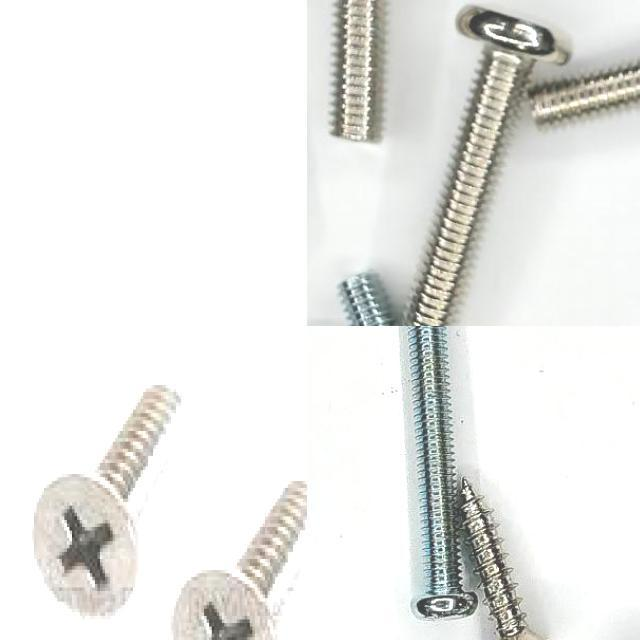Screw: (405, 5, 570, 326), (25, 373, 199, 637), (165, 465, 307, 640), (407, 326, 477, 619), (461, 479, 545, 640), (331, 0, 382, 142), (528, 63, 640, 123), (338, 274, 395, 326)
